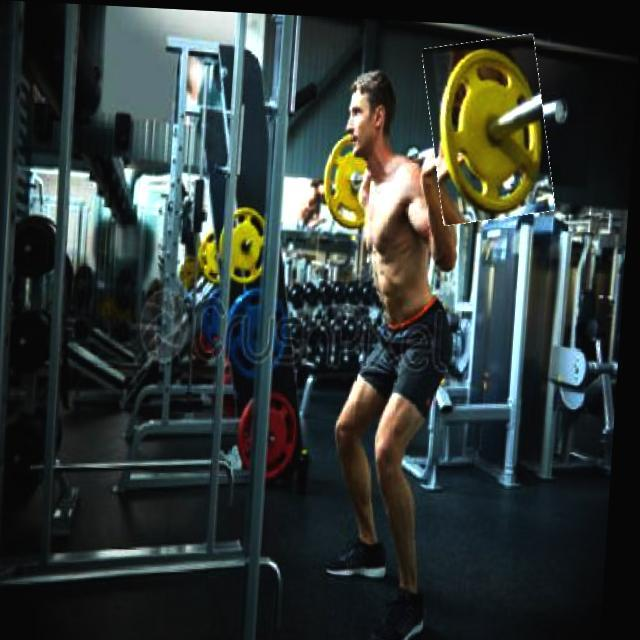barbell: (423, 29, 560, 221)
